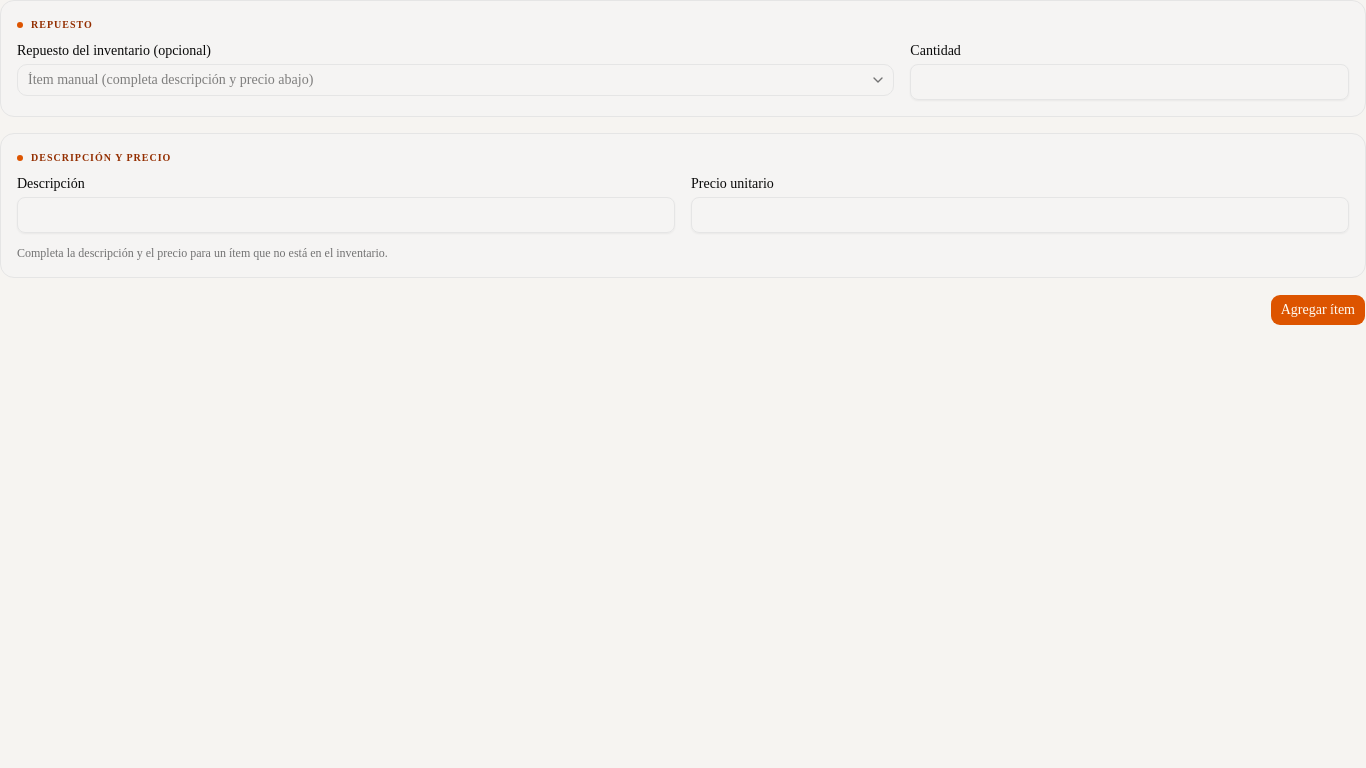
Test case: AgregarItemForm › shows a '+ Crear repuesto nuevo' option in the combo, which opens the create dialog instead of selecting it as a repuestoId
The width and height of the screenshot is (1366, 768).
Click the dropdown labelled "Repuesto del inventario (opcional)" at point(456, 80), box [17,64,894,96]
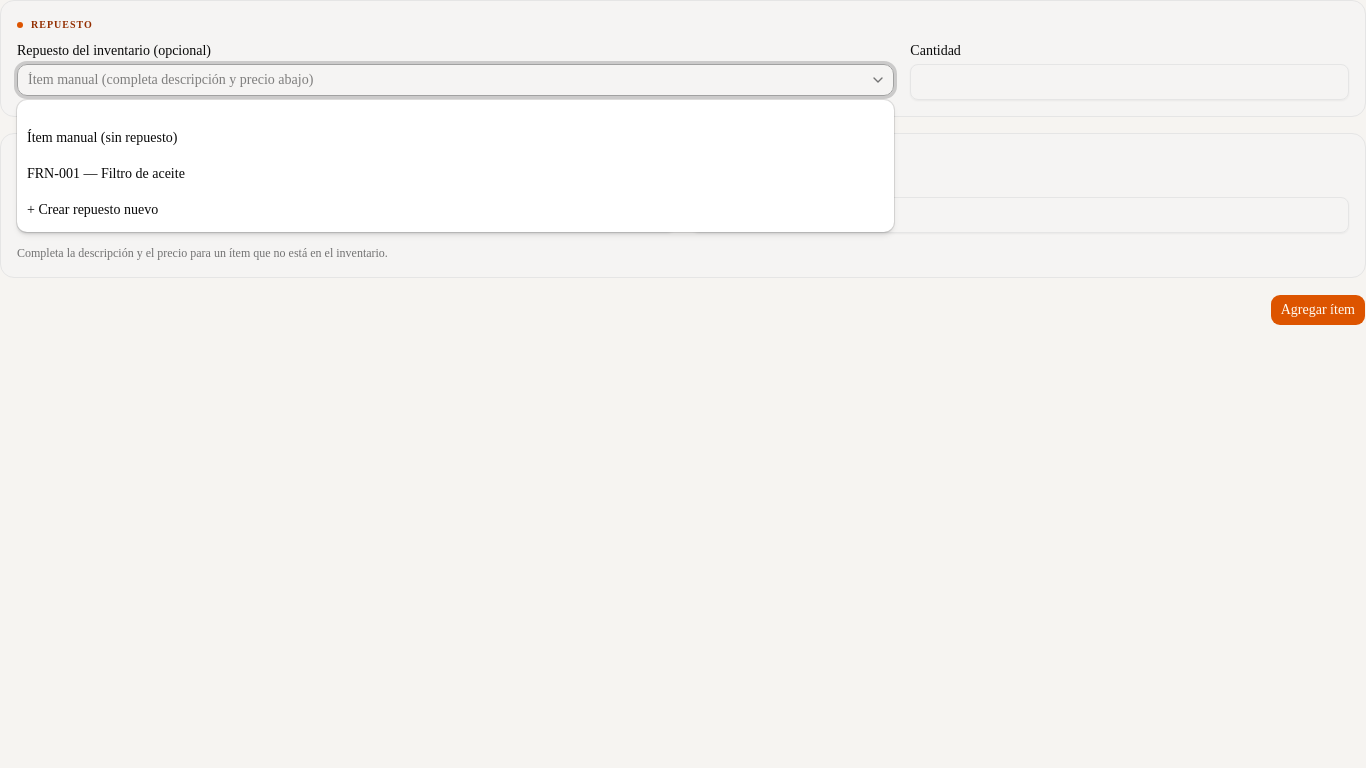
Click the option "+ Crear repuesto nuevo" at point(93, 210), box [27,202,158,217]
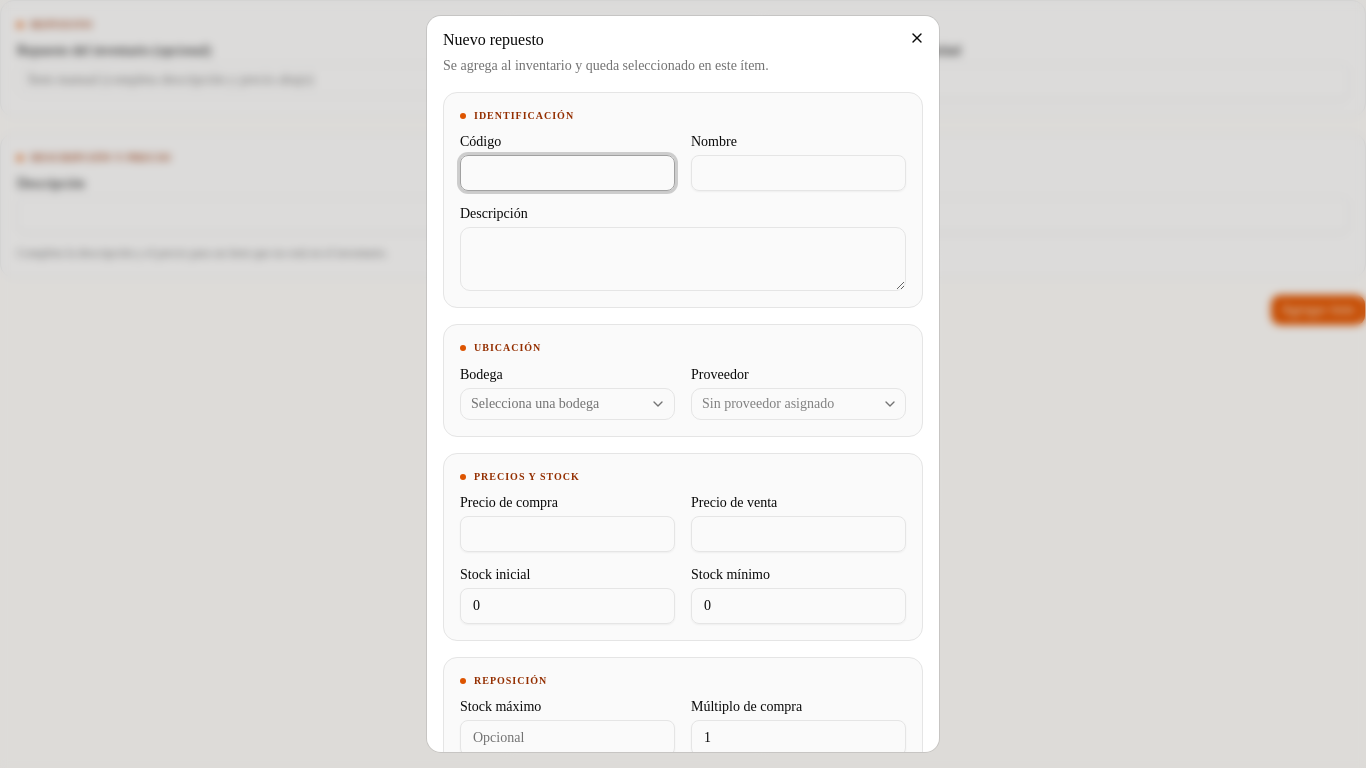
Check: the heading "Nuevo repuesto" is shown, box [443,31,544,48]
